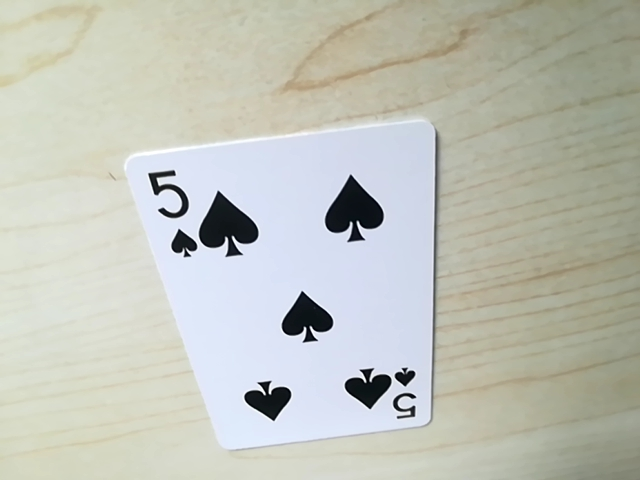ht 5: (143, 163, 202, 263), (386, 366, 425, 429)
